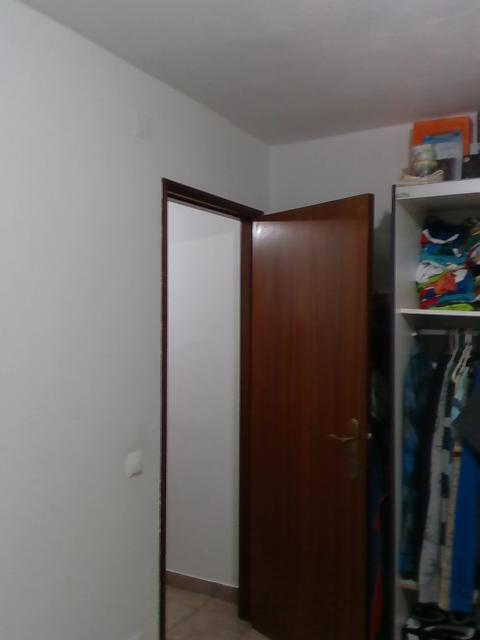open_door: (159, 174, 270, 638)
